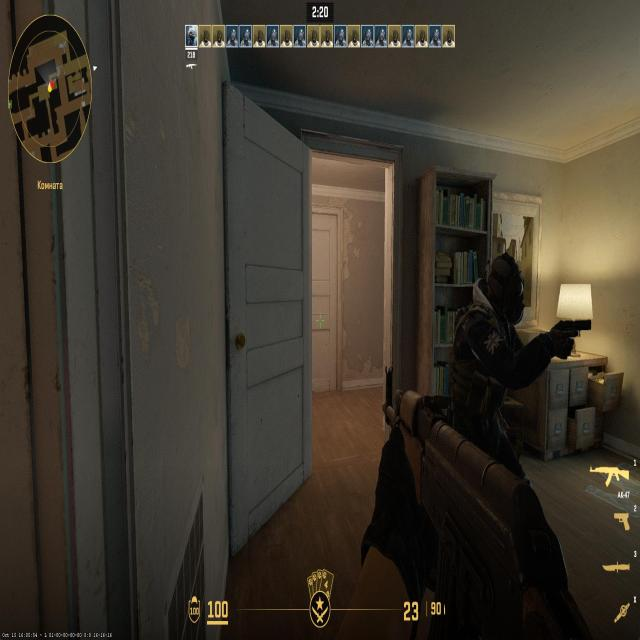CT: (481, 262, 514, 415)
CT_heat: (496, 276, 512, 305)
